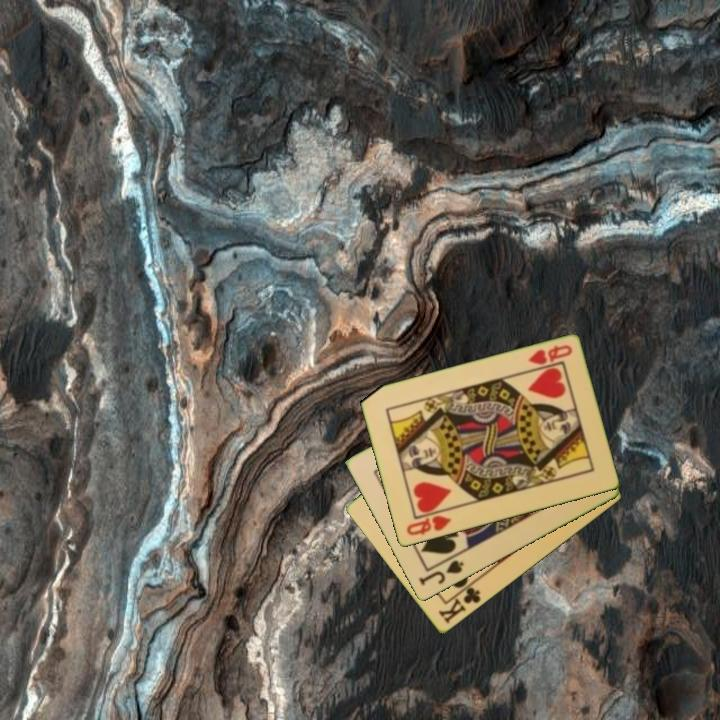Js: (415, 557, 467, 589)
Kc: (434, 579, 484, 627)
Qh: (403, 512, 455, 539), (524, 342, 575, 368)
